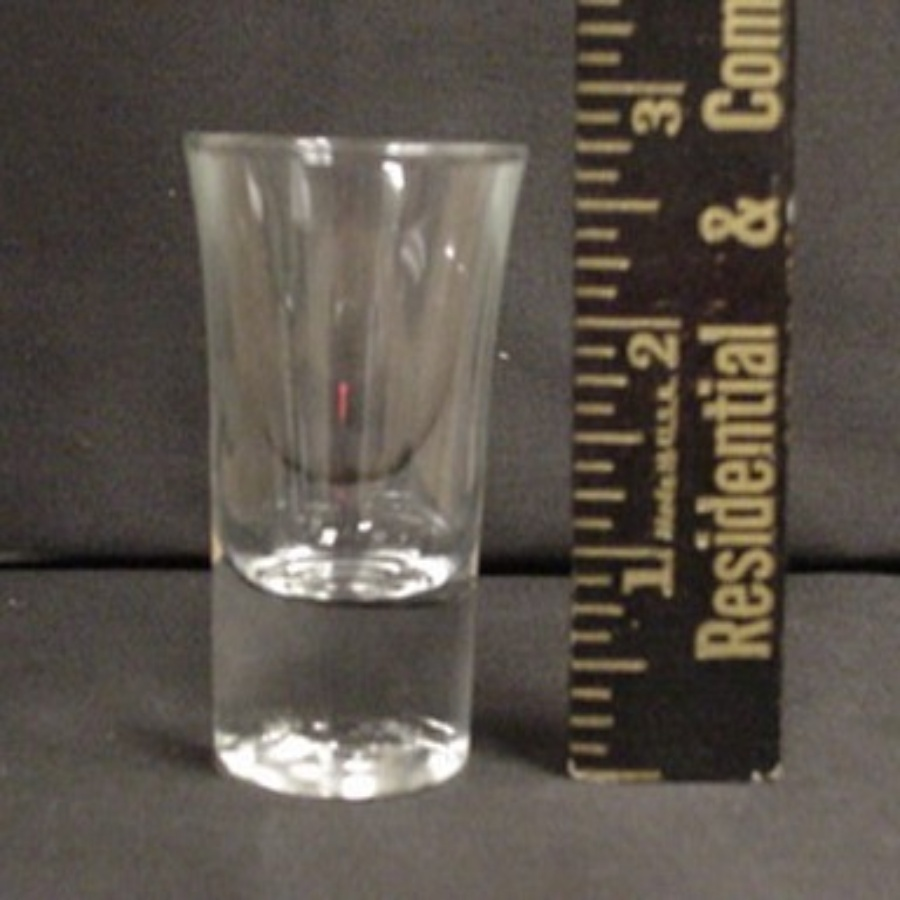whiskey: (175, 129, 533, 802)
